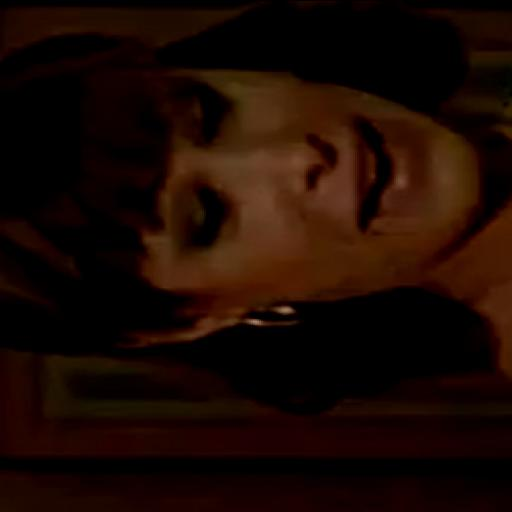zeineb: (74, 56, 475, 350)
